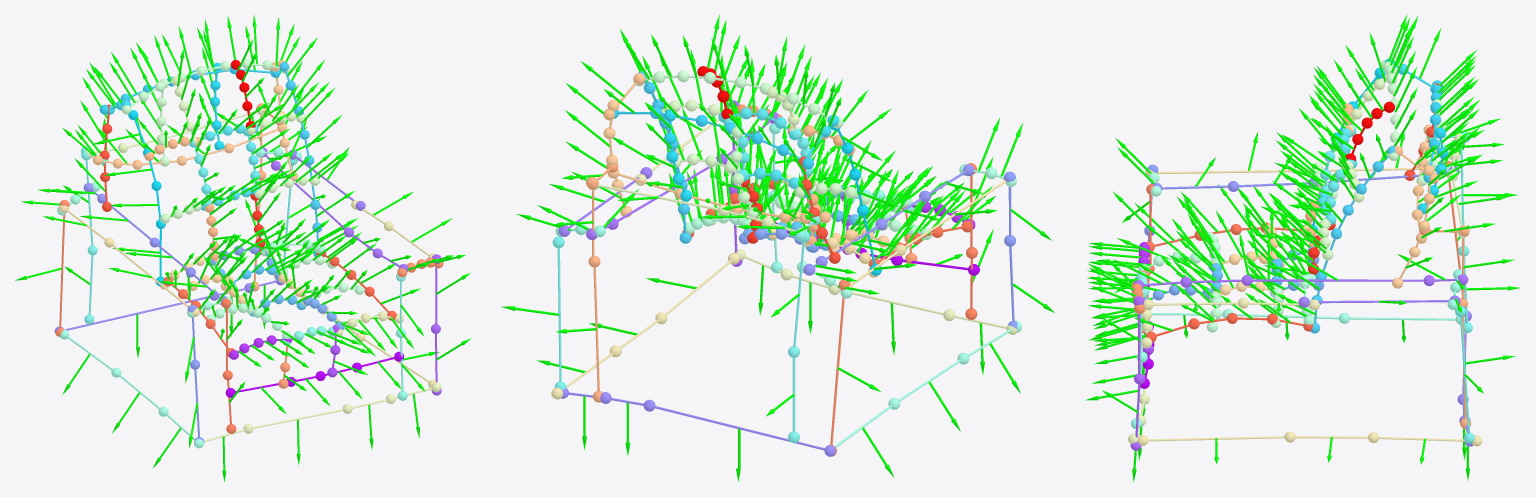
File: author2_sofa.gltf
3 renders of one model, left to right at view 1: azimuth 30°, elevation 25°; view 2: azimuth 150°, elevation 25°; view 3: azimuth 270°, elevation 25°, orthographic. The views are drawn at different scales.
Size of the model in its own units: 0.7214 by 0.7629 by 0.7779.
